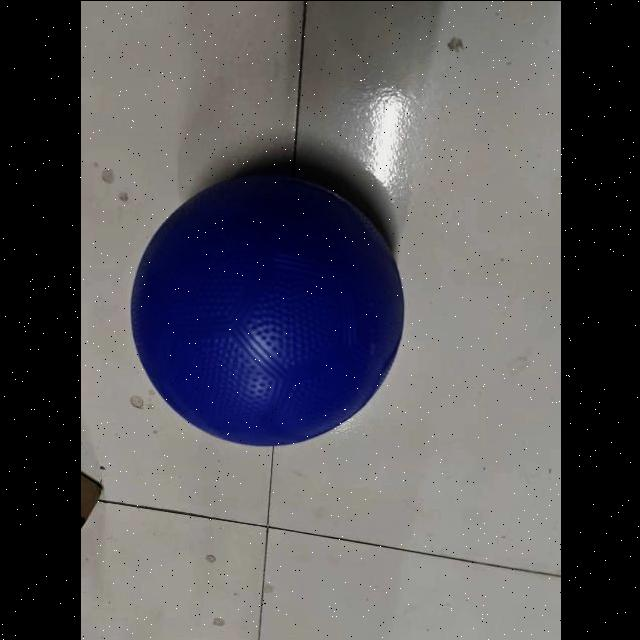B: (124, 167, 418, 453)
